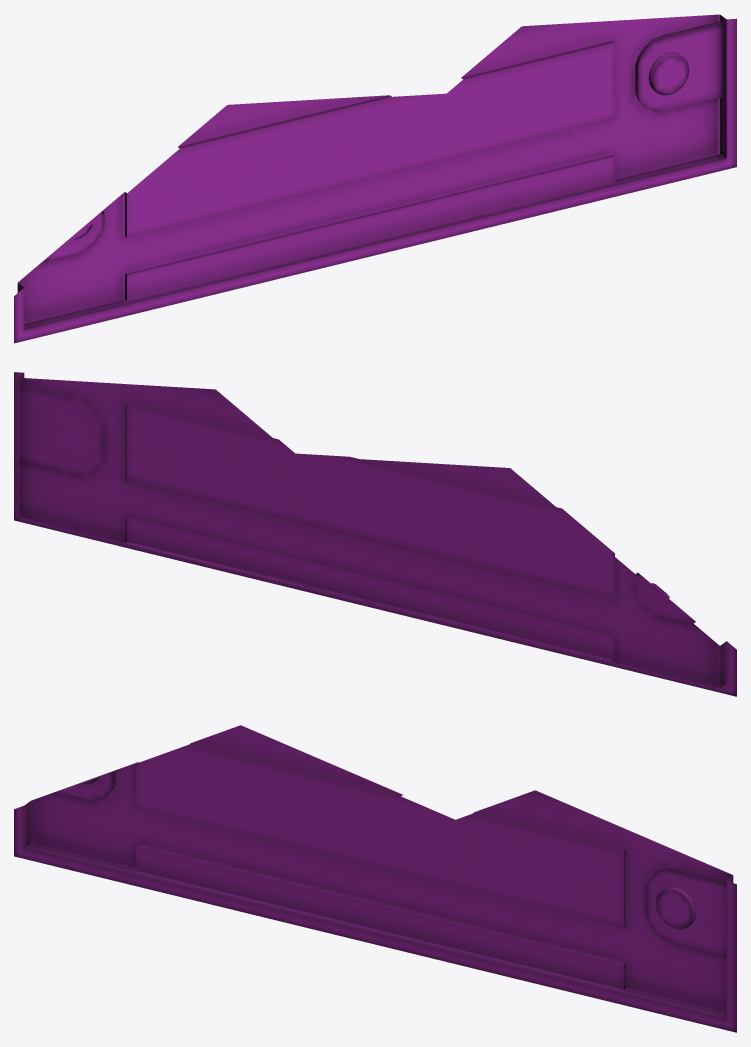
The model's file is sc_finalBoss_slideDoorB_destroyed_C.FBX.
3 renders of one model, top to bottom at view 1: azimuth 30°, elevation 25°; view 2: azimuth 150°, elevation 25°; view 3: azimuth 330°, elevation 25°, orthographic.
Parts seen in each view (by area): view 1: finalBoss_slideDoorB_destroyed_C; view 2: finalBoss_slideDoorB_destroyed_C; view 3: finalBoss_slideDoorB_destroyed_C.
Part boxes in pixels (bbox=[...]): finalBoss_slideDoorB_destroyed_C: bbox=[14, 14, 736, 343]; finalBoss_slideDoorB_destroyed_C: bbox=[14, 372, 736, 696]; finalBoss_slideDoorB_destroyed_C: bbox=[14, 725, 736, 1032].
Bounding box in the file's own units: 25.36 × 6.26 × 0.4074.
